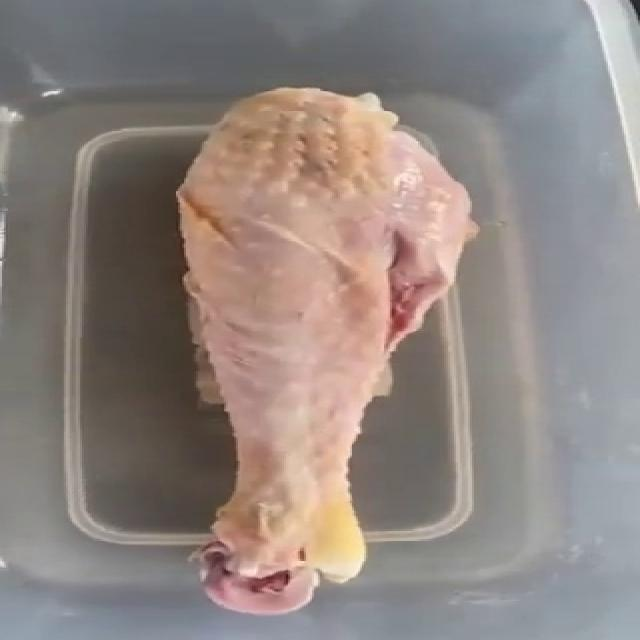chicken: (178, 90, 468, 618)
